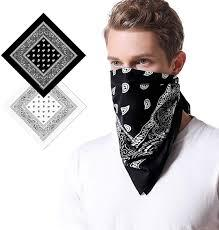scarf-kerchief: (103, 63, 189, 185)
